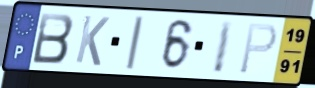6: (158, 18, 195, 72)
B: (30, 11, 76, 66)
I: (210, 19, 236, 76), (124, 15, 146, 72)
K: (73, 13, 112, 68)
P: (237, 22, 280, 76)
